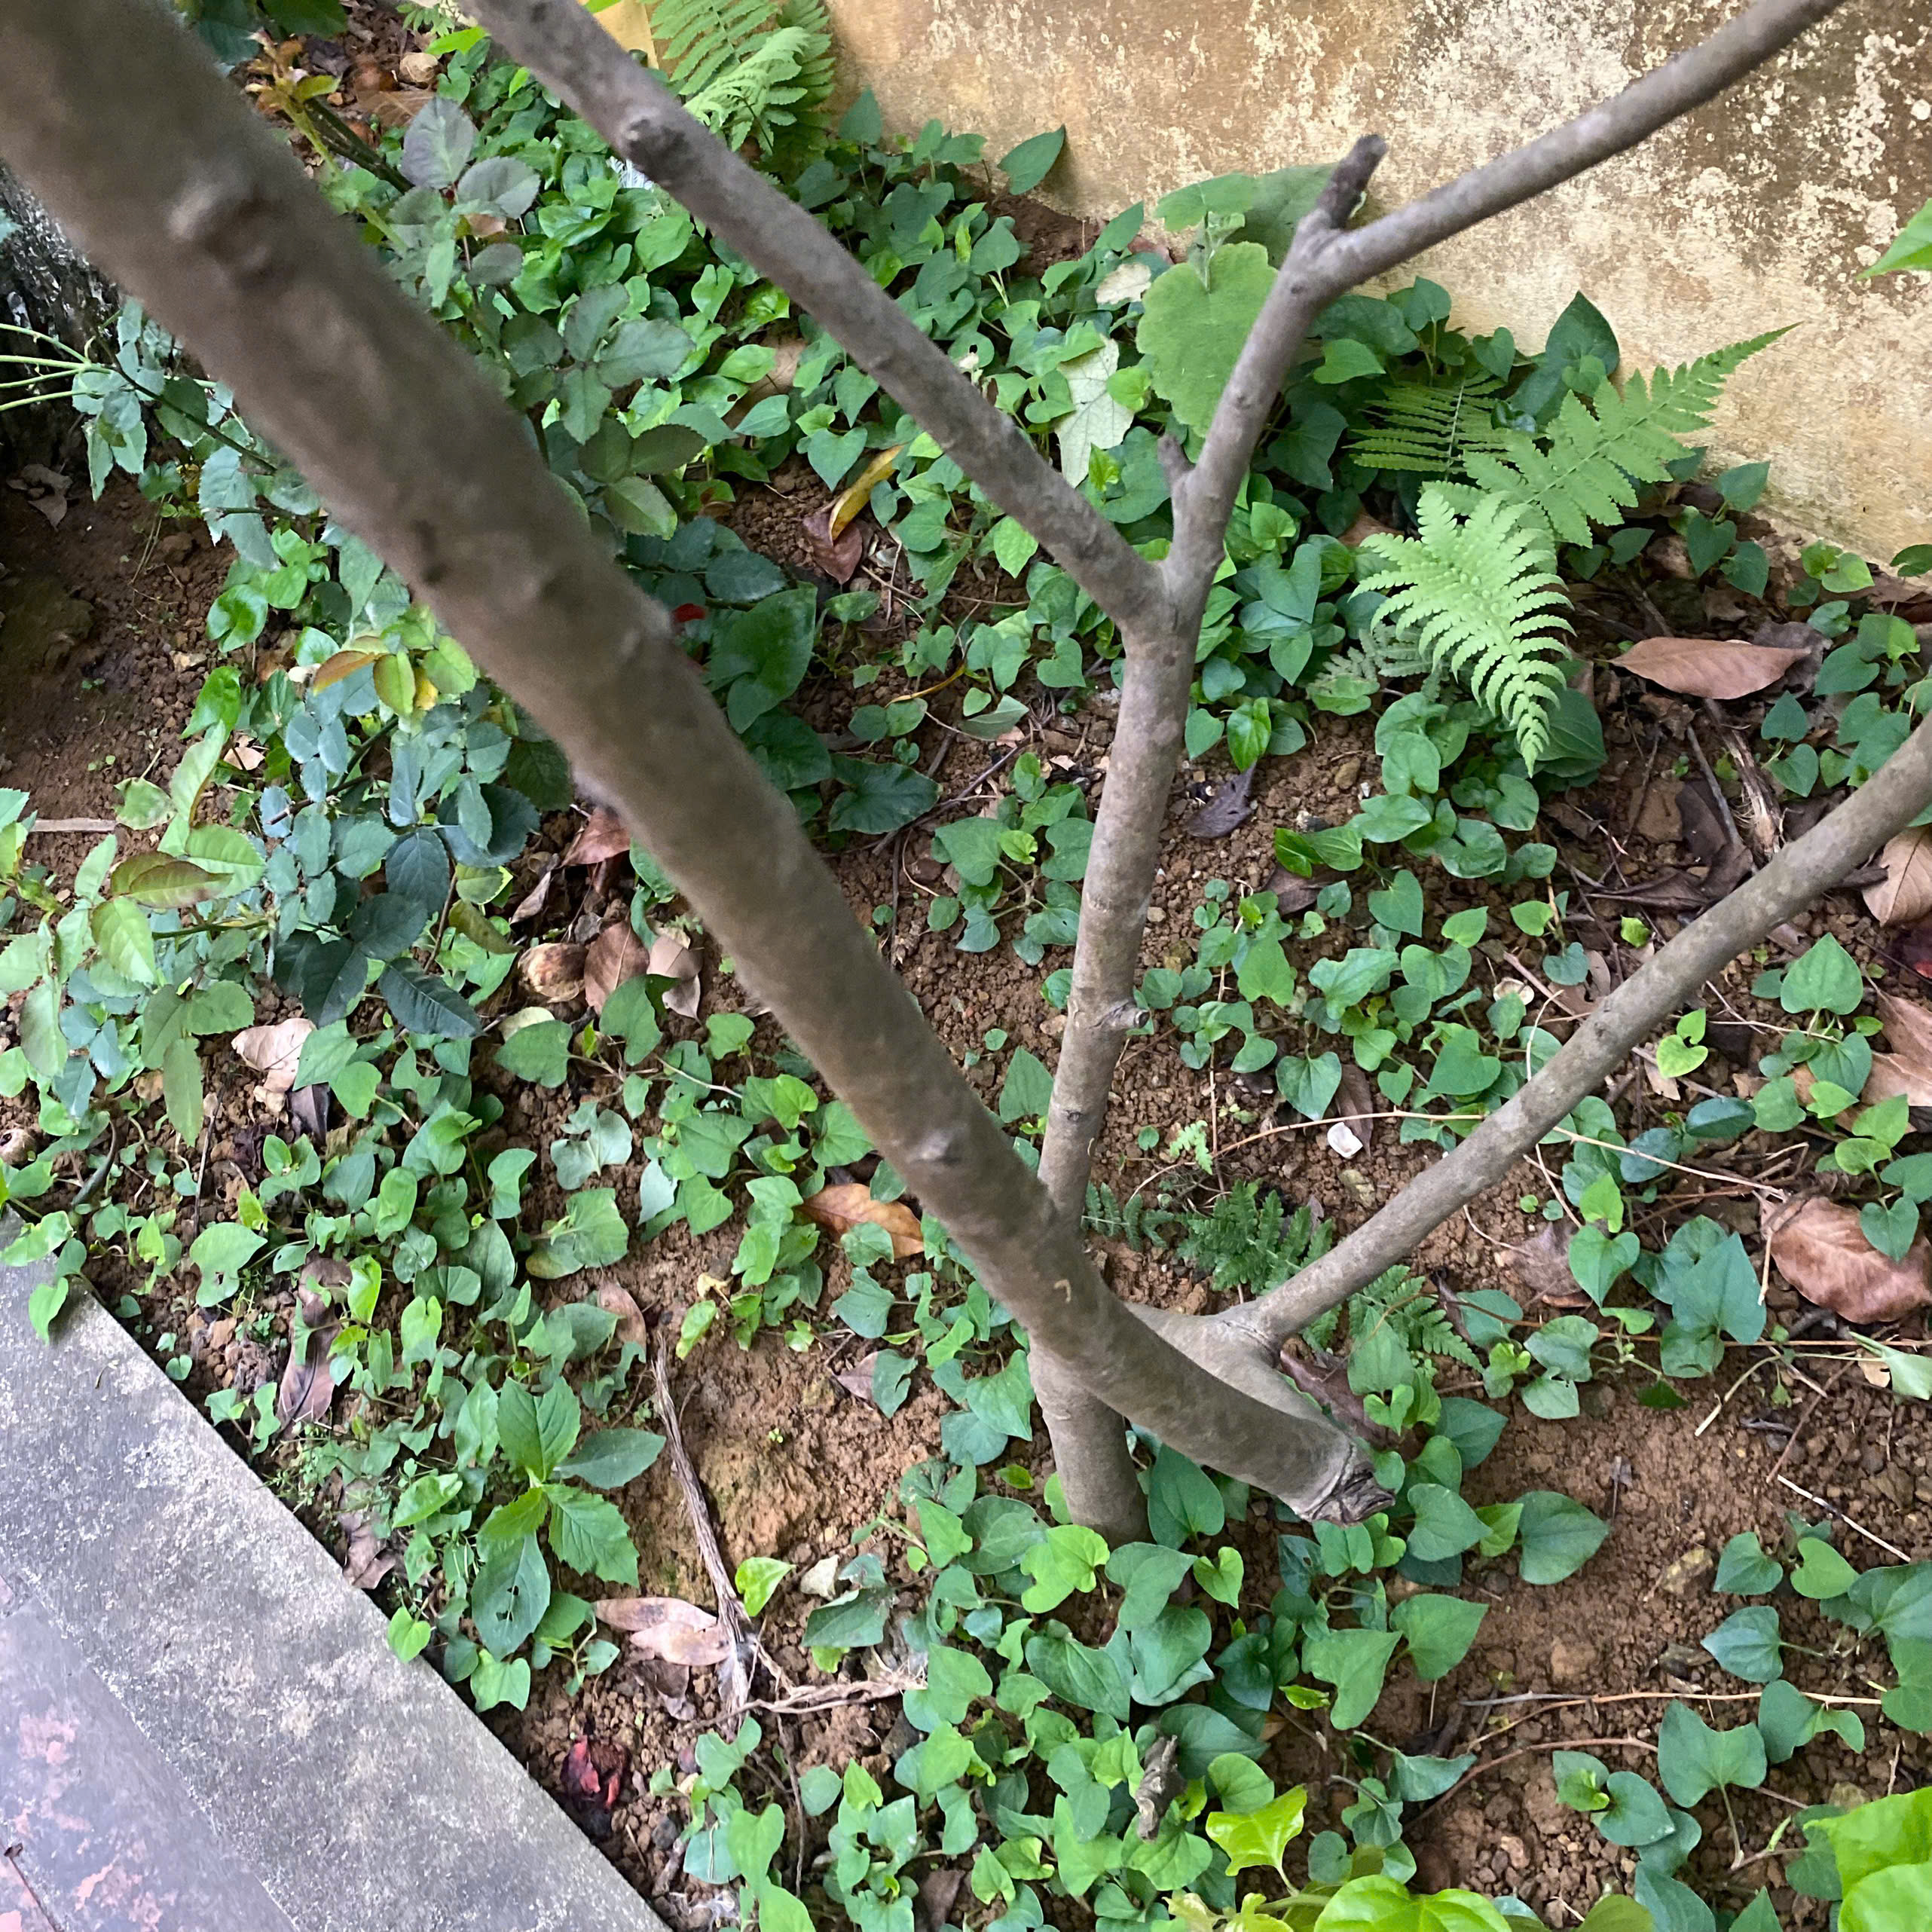hoa_hai_duong: (177, 216, 1470, 1619)
